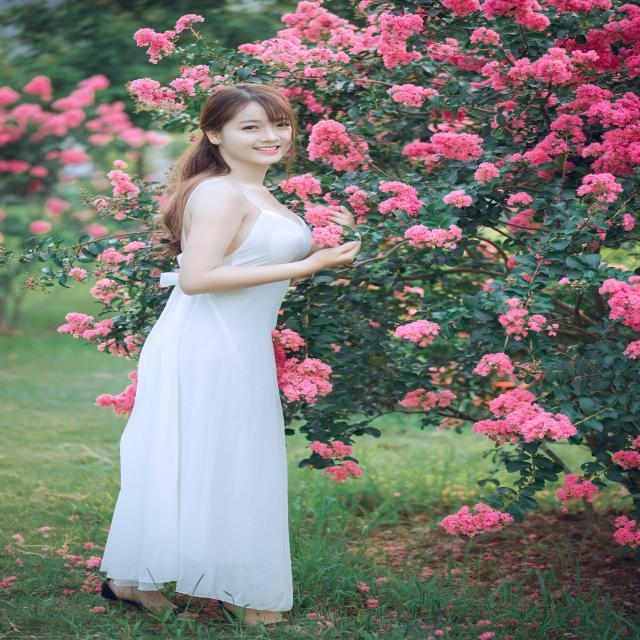stand: (117, 81, 327, 594)
